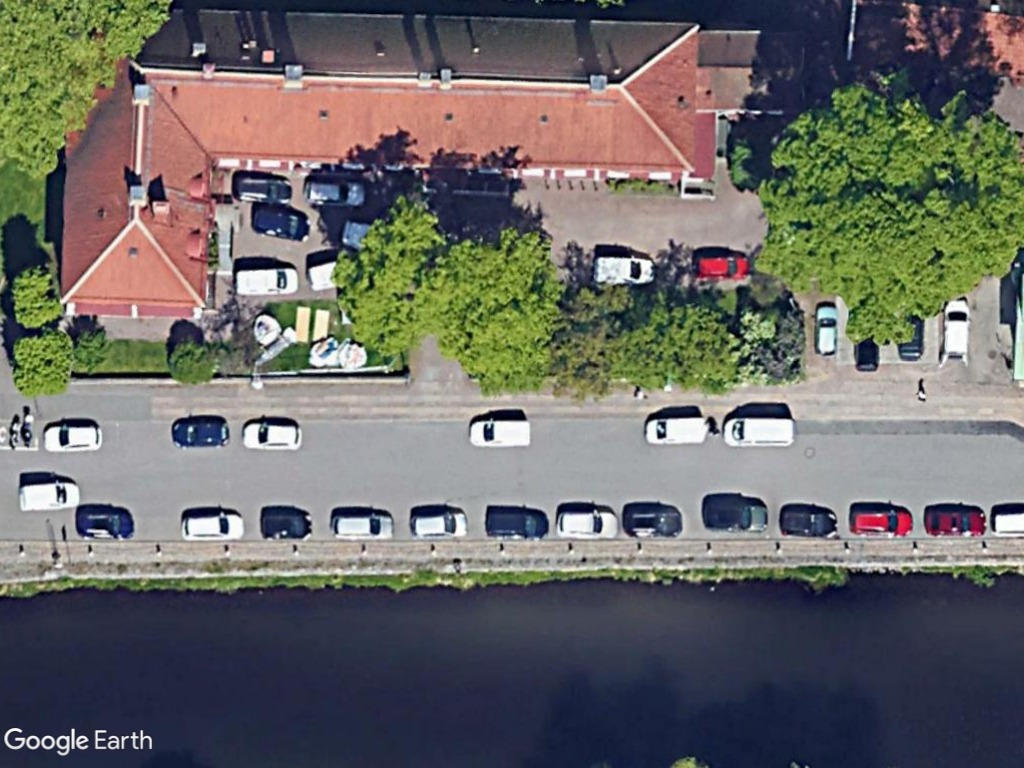car: (547, 504, 625, 545), (918, 501, 991, 541), (774, 502, 845, 543), (846, 500, 916, 540), (249, 201, 317, 242), (700, 497, 772, 535), (481, 504, 553, 542), (618, 501, 688, 540), (175, 506, 246, 544), (325, 509, 397, 545), (937, 295, 975, 363), (406, 505, 472, 544), (72, 506, 135, 545), (300, 175, 369, 210), (239, 417, 306, 453), (228, 172, 297, 205), (38, 421, 107, 454), (169, 416, 236, 449), (690, 251, 754, 285), (257, 512, 319, 547), (812, 300, 841, 362)
van: (717, 412, 800, 451), (14, 478, 82, 519), (231, 263, 302, 301), (464, 414, 538, 449), (643, 411, 713, 448), (590, 250, 659, 287)
